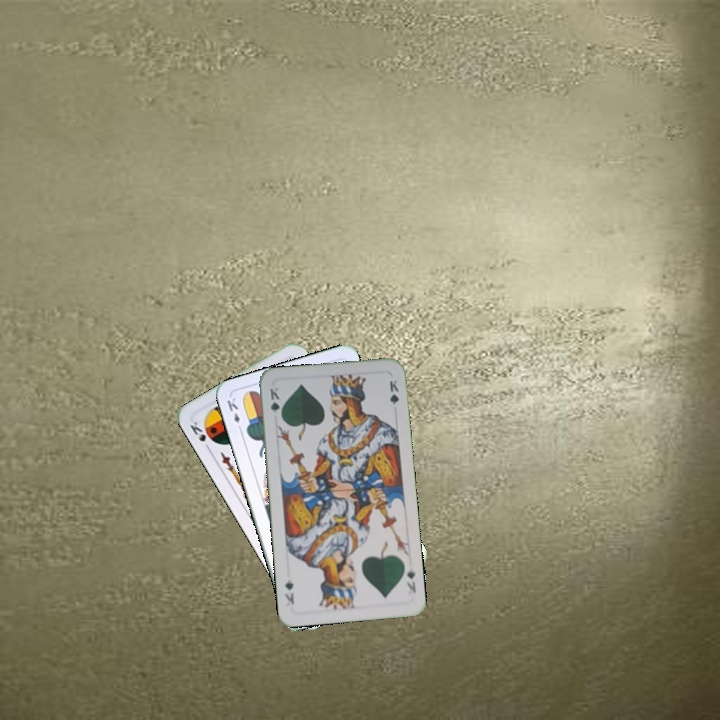EK: (223, 393, 245, 434)
GK: (266, 383, 284, 422), (402, 563, 418, 596)
SK: (186, 417, 213, 454)
